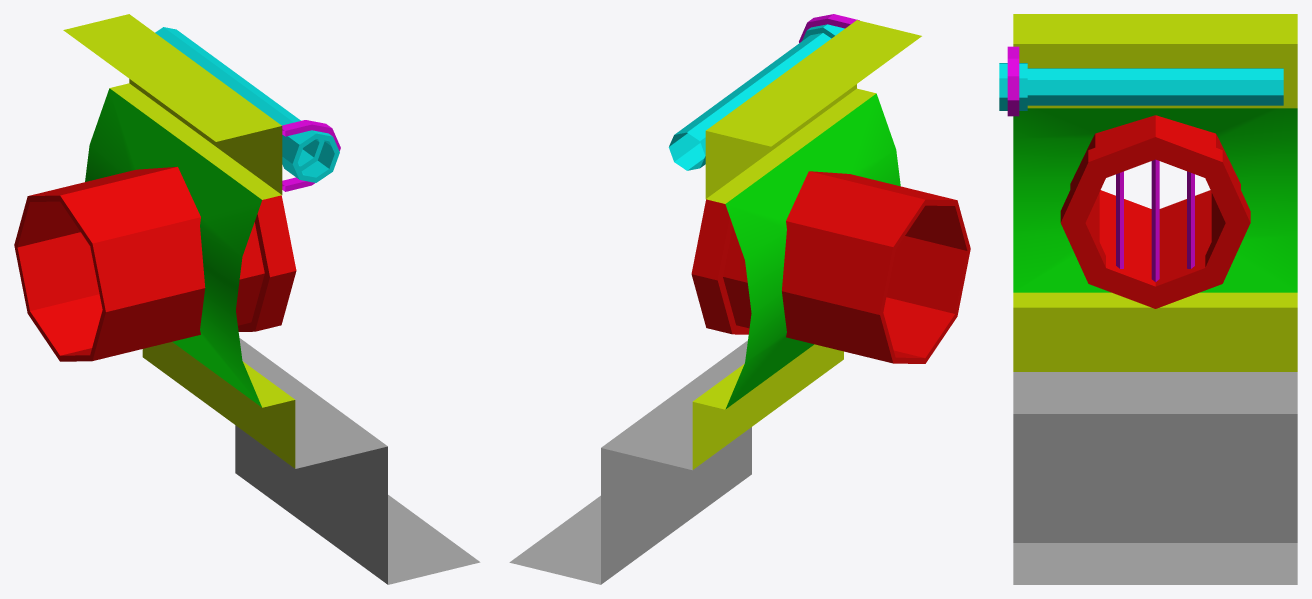
Rendered from Wall_a_hidepipe.fbx.
The picture shows the model from 3 angles, left to right: view 1: azimuth 30°, elevation 25°; view 2: azimuth 150°, elevation 25°; view 3: azimuth 270°, elevation 25°; orthographic projection. The views are drawn at different scales.
Visible parts, largest first — view 1: polySurface4, pCylinder2, Floorplane2, pCylinder1, polySurface1, polySurface3; view 2: polySurface4, pCylinder2, Floorplane2, pCylinder1; view 3: polySurface4, Floorplane2, pCylinder2, pCylinder1, pCube1, polySurface3, polySurface1, pCube2, pCube3.
Part boxes in pixels (x1,y1,x2,y2): polySurface4: (63,14,295,468); pCylinder2: (14,166,296,361); Floorplane2: (235,338,480,584); pCylinder1: (155,27,319,166); polySurface1: (282,130,339,182); polySurface3: (282,120,340,191); polySurface4: (692,20,921,469); pCylinder2: (691,171,970,363); Floorplane2: (509,340,751,584); pCylinder1: (668,33,831,170); polySurface4: (1013,14,1297,371); Floorplane2: (1013,372,1297,584); pCylinder2: (1060,115,1250,308); pCylinder1: (1027,68,1283,105); pCube1: (1151,159,1159,281); polySurface3: (1007,46,1019,116); polySurface1: (999,63,1027,110); pCube2: (1187,171,1194,268); pCube3: (1116,171,1123,268).
Size of the model in its own units: 13 by 17.5 by 10.5.
